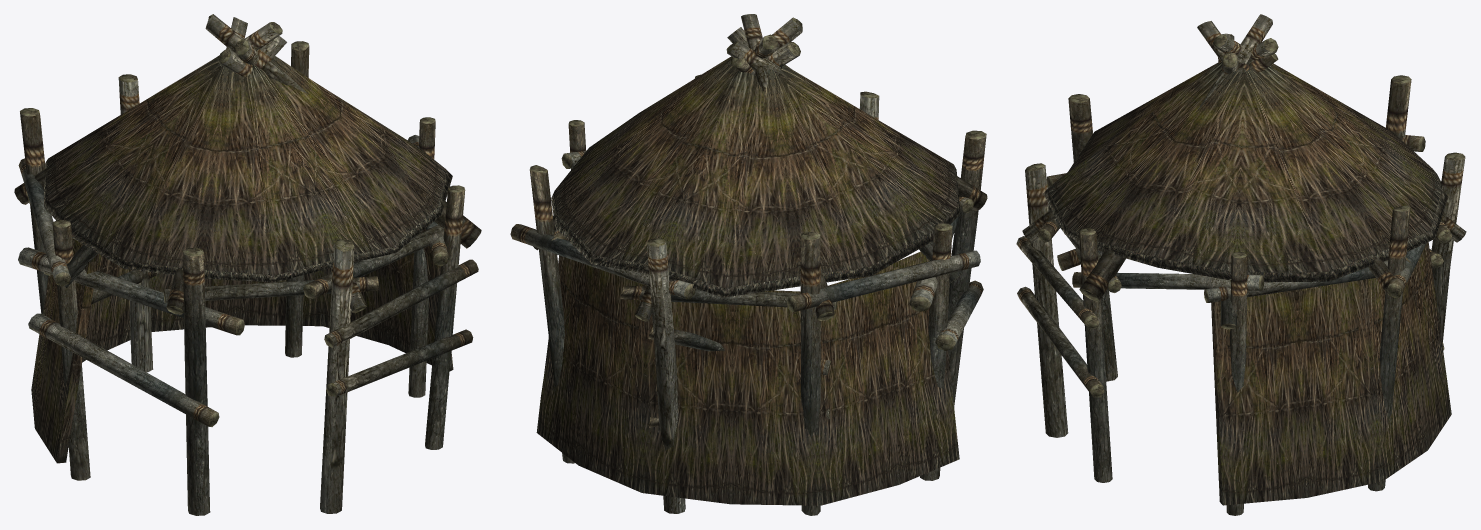
Rendered from camp_woodhut_02.fbx.
3 views of the same model, side by side, from view 1: azimuth 30°, elevation 25°; view 2: azimuth 150°, elevation 25°; view 3: azimuth 270°, elevation 25° (orthographic). The views are drawn at different scales.
Visible parts, largest first — view 1: camp_tent_woodhut_02; view 2: camp_tent_woodhut_02; view 3: camp_tent_woodhut_02.
Part boxes in pixels (x1,y1,x2,y2): camp_tent_woodhut_02: [14, 14, 481, 515]; camp_tent_woodhut_02: [510, 14, 987, 515]; camp_tent_woodhut_02: [1016, 14, 1466, 515].
Size of the model in its own units: 8 by 7.92 by 7.84.
